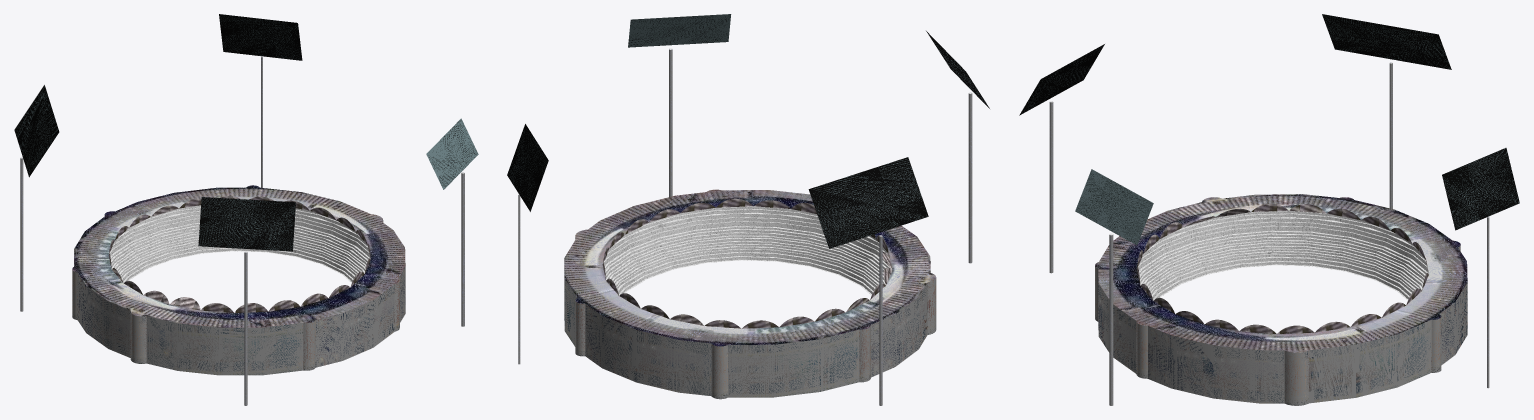
Rendered from gadaffistad.fbx.
The picture shows the model from 3 angles, left to right: view 1: azimuth 30°, elevation 25°; view 2: azimuth 150°, elevation 25°; view 3: azimuth 270°, elevation 25°; orthographic projection. The views are drawn at different scales.
Visible parts, largest first — view 1: Component_1_1; view 2: Component_1_1; view 3: Component_1_1.
Part boxes in pixels (x1,y1,x2,y2): Component_1_1: (14,14,478,405); Component_1_1: (507,14,989,405); Component_1_1: (1019,14,1519,405).
Size of the model in its own units: 308 by 163 by 332.
